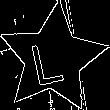L_N: (33, 31, 73, 87)
